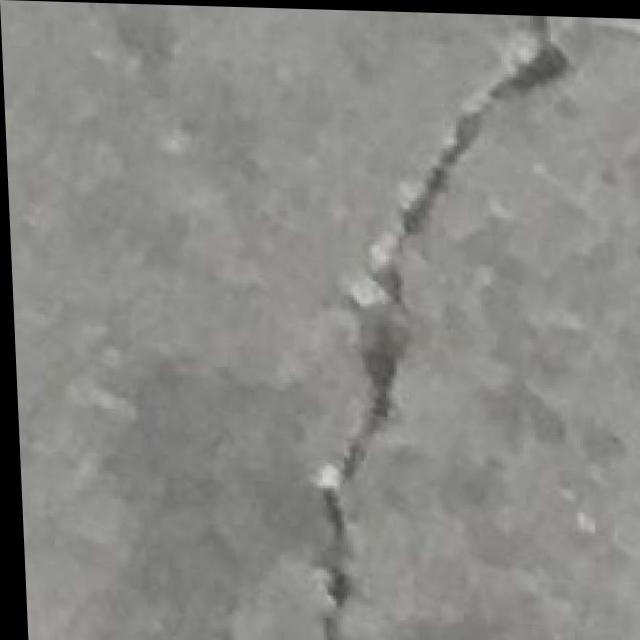Crack: (269, 6, 599, 640)
